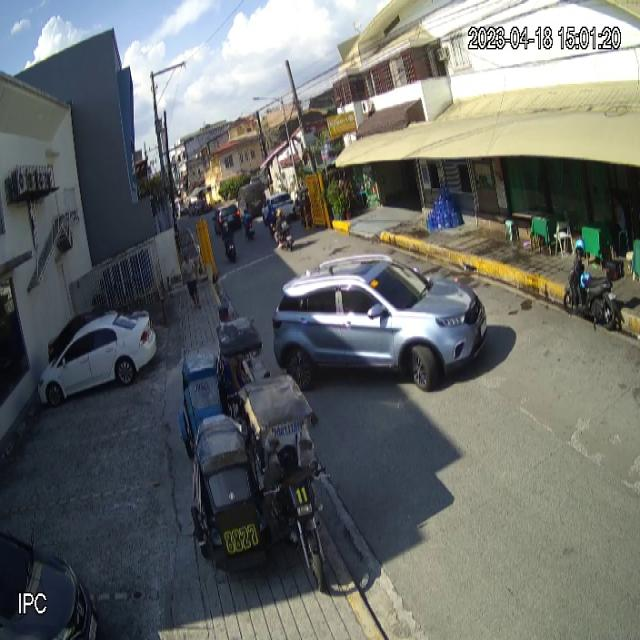Car: (272, 251, 488, 392), (37, 309, 158, 409)
Tricycle: (189, 371, 328, 594), (178, 315, 264, 459)
